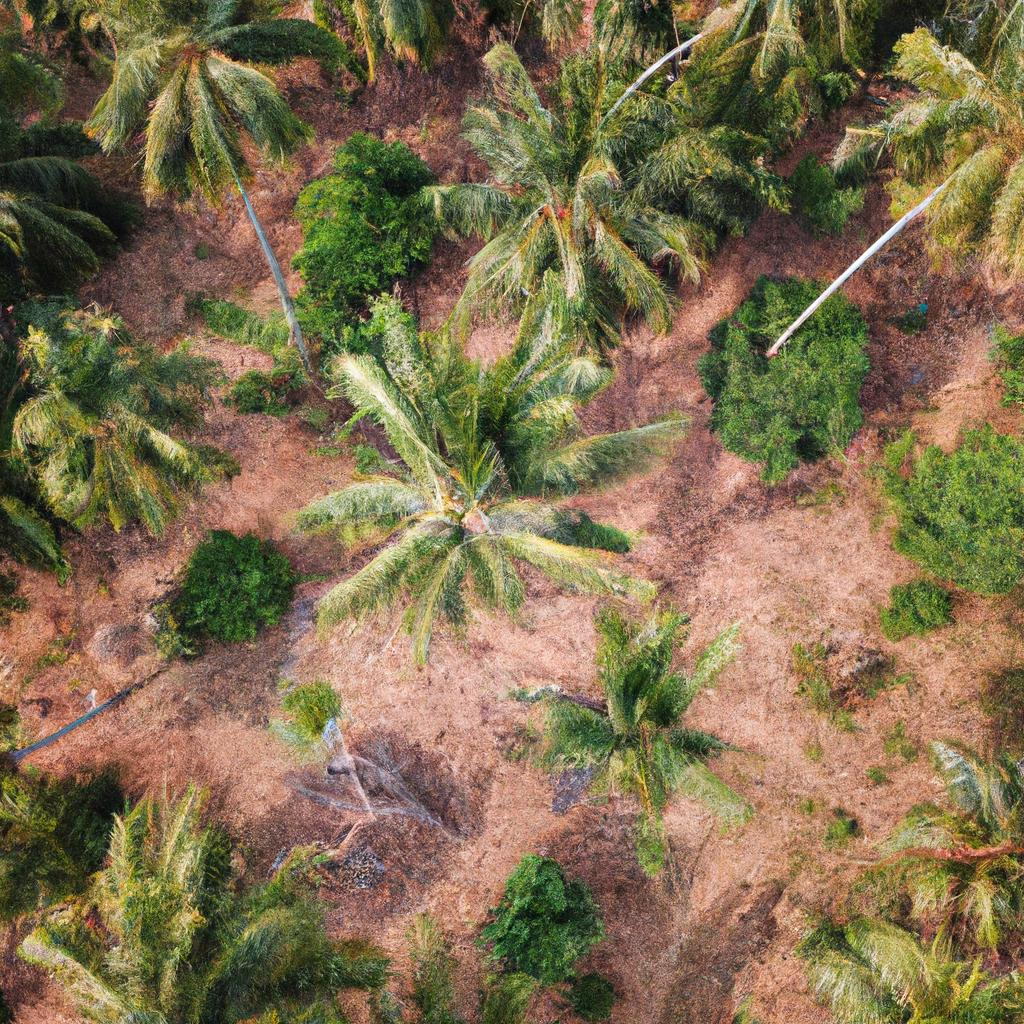coconut_tree: (294, 283, 684, 651), (411, 24, 735, 316), (62, 0, 330, 245), (517, 601, 743, 872)
